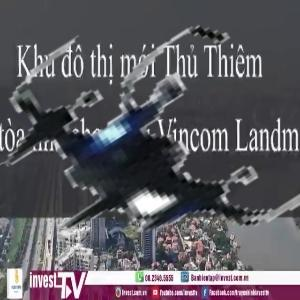drone: (9, 11, 295, 297)
